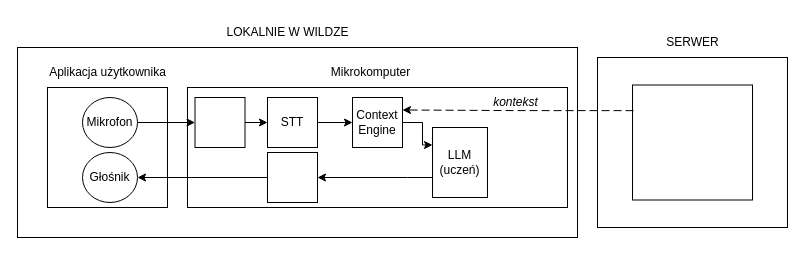
Some shapes in this 805 by 255 pixel diagram are drawn without their labels. The shapes that lost their labels are listed below. From the top down, each one's box as (x1, y1, x2, y2) in pixels, then its label:
(194, 96, 245, 148): VAD
(632, 84, 752, 200): LLM (nauczyciel)
(266, 152, 318, 202): TTS
